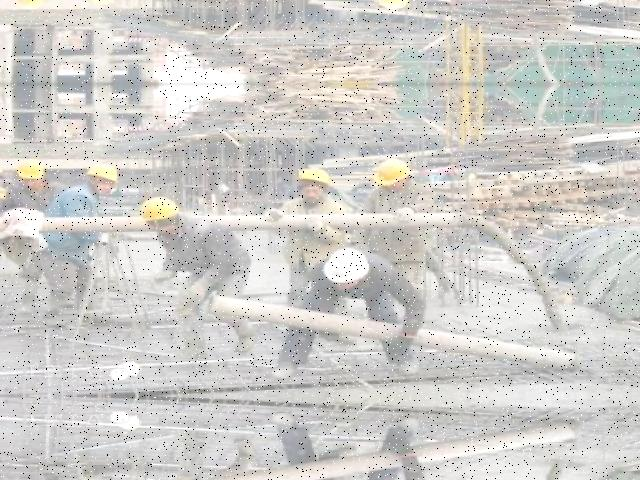Helmet: (321, 244, 375, 286), (140, 191, 187, 227), (372, 154, 416, 191), (294, 164, 338, 189), (86, 160, 125, 188), (16, 157, 51, 182)
